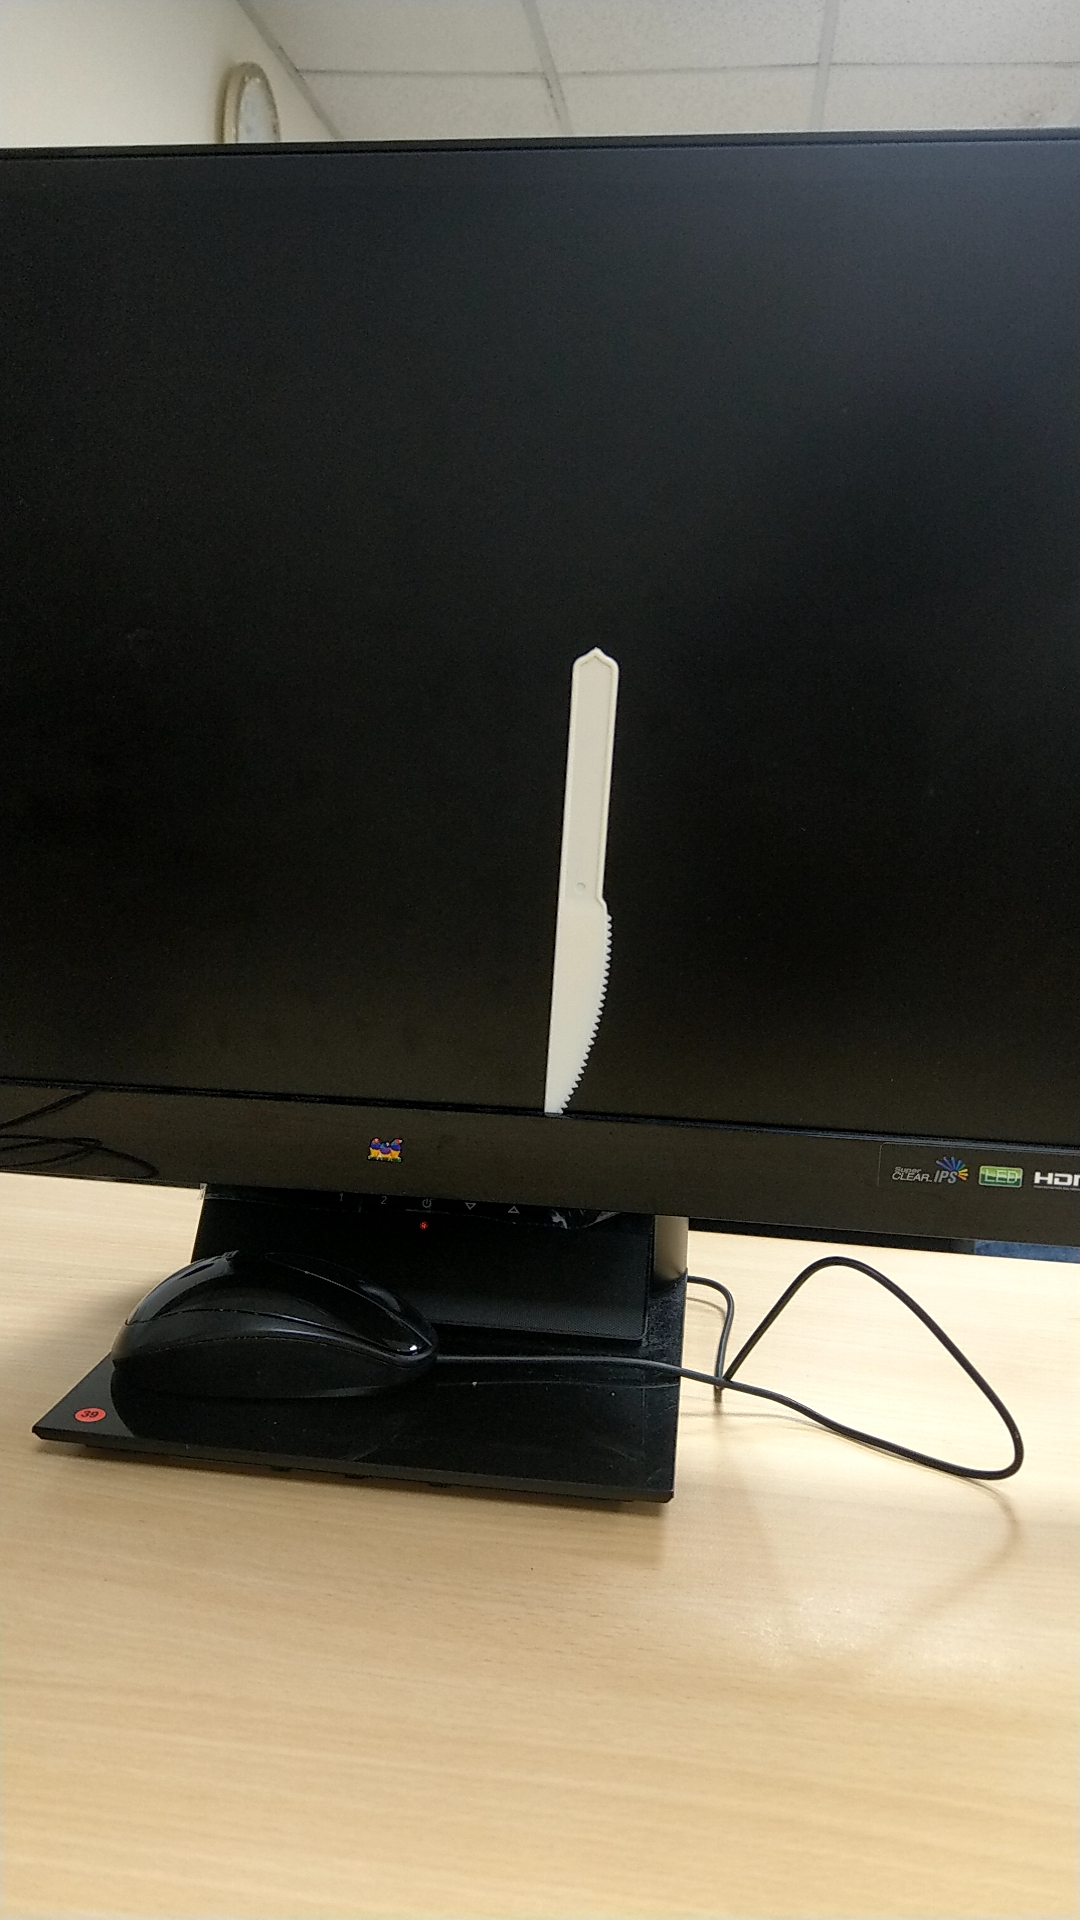knife: (537, 625, 634, 1106)
